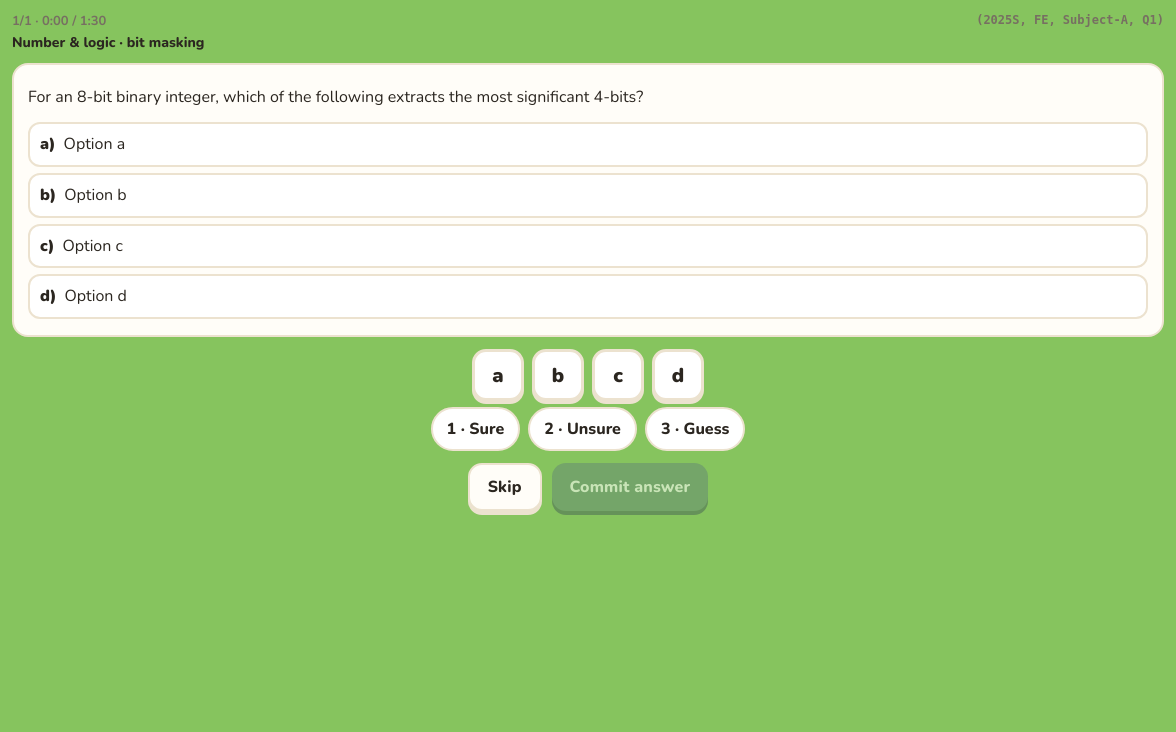
it: past-paper question › never reveals the answer or explanation before commit
Check: the text "answer a)" is not shown
Check: the button "Commit answer" is disabled, box [552,463,708,511]
Click the button "a" at (498, 375), box [472,349,524,401]
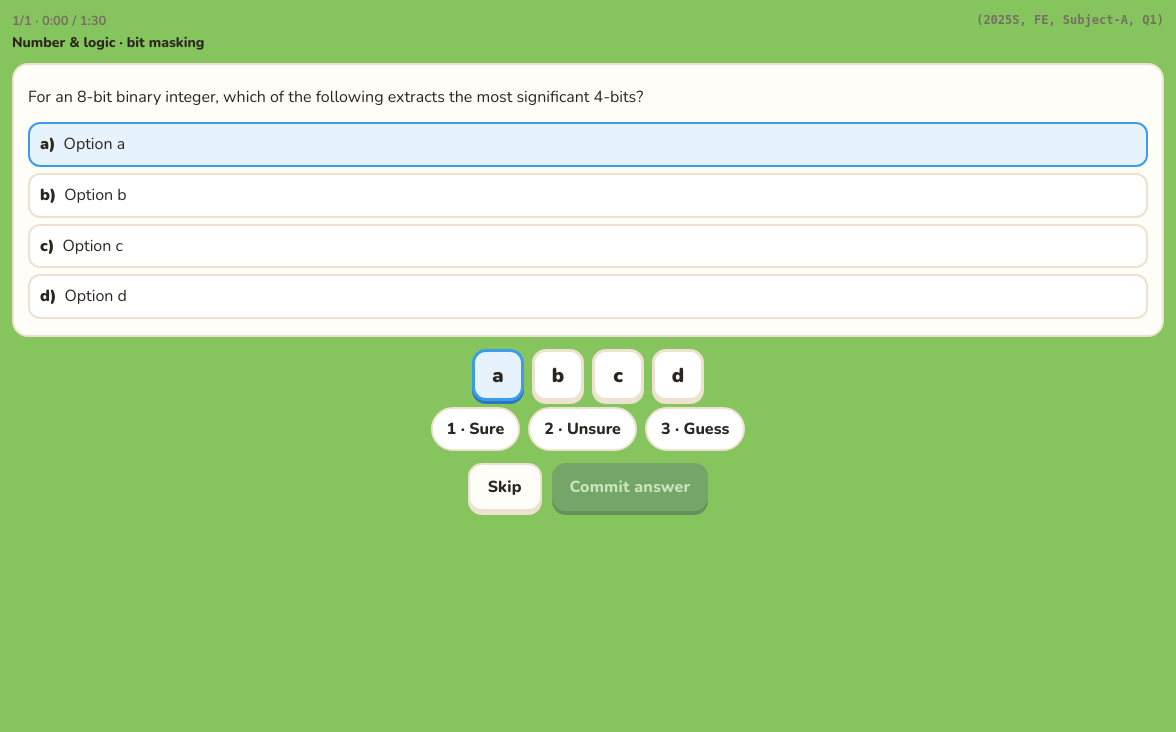
Check: the button "Commit answer" is disabled, box [552,463,708,511]
Click the button "1 · Sure" at (475, 429), box [431,407,520,451]
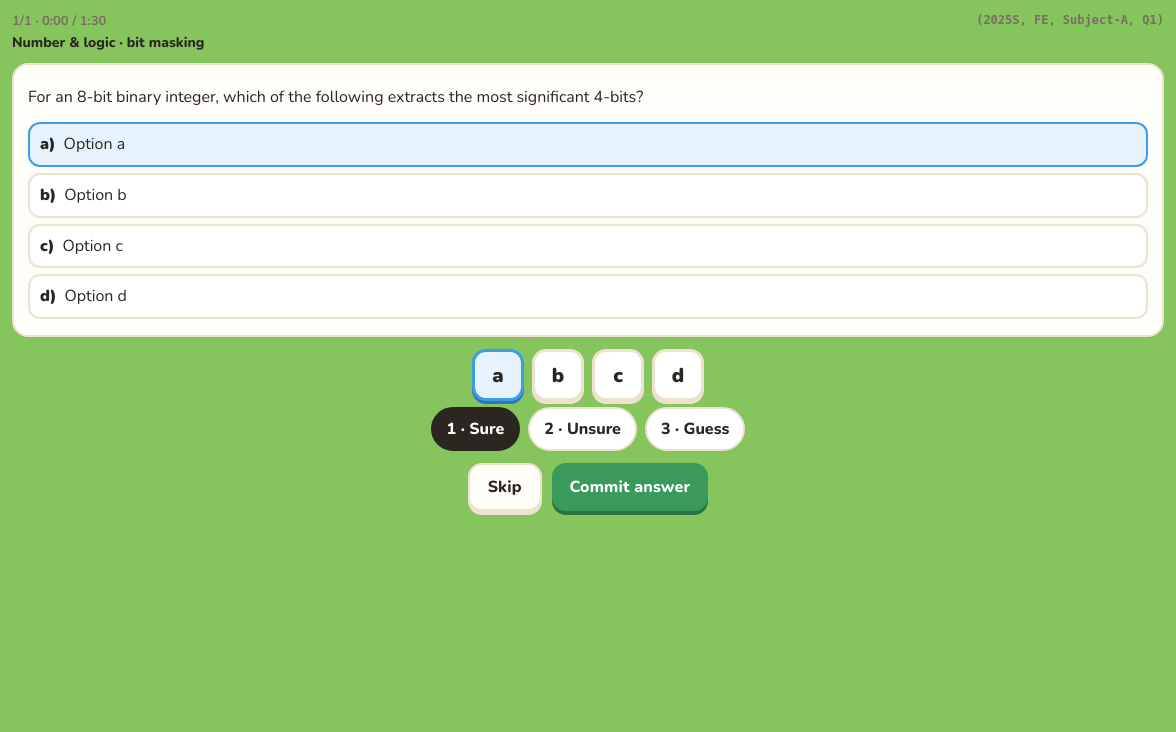
Check: the button "Commit answer" is enabled
Click the button "Commit answer" at (630, 487), box [552,463,708,511]
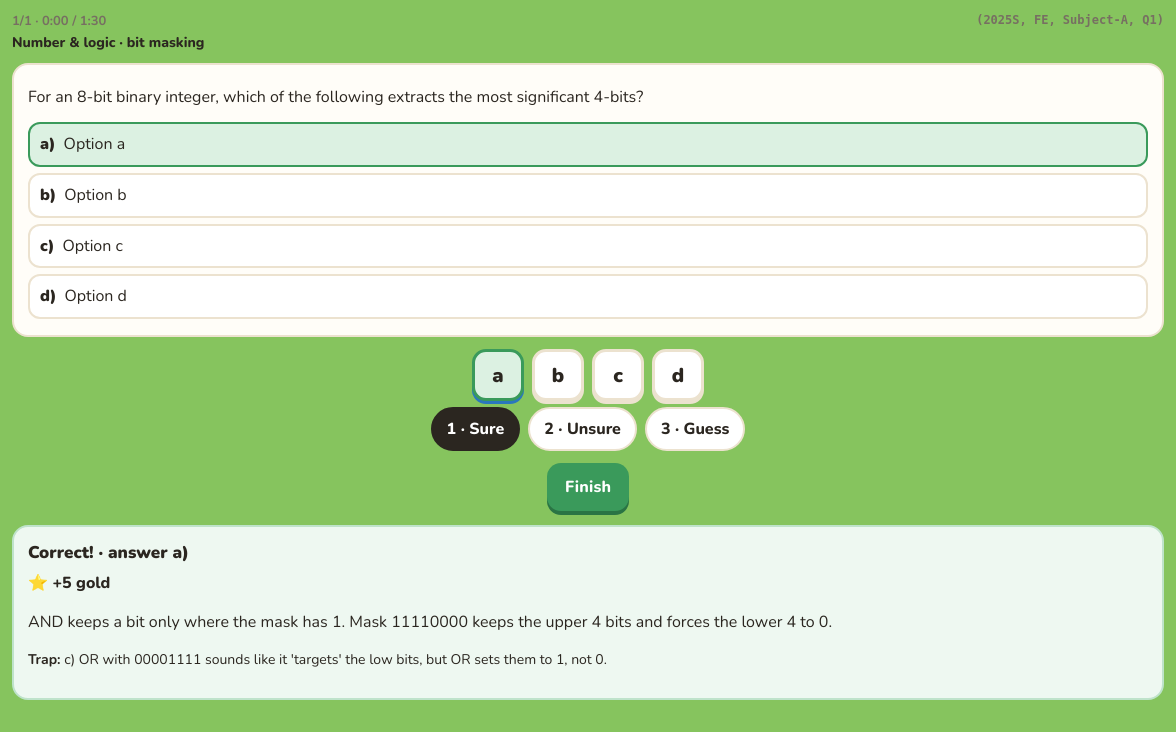
Check: the text "AND keeps a bit only where the mask has 1. Mask 11110000 keeps the upper 4 bits and forces the lower 4 to 0." is shown, box [28,611,832,633]
Check: the text "Correct! · answer a)" is shown, box [28,541,189,564]
